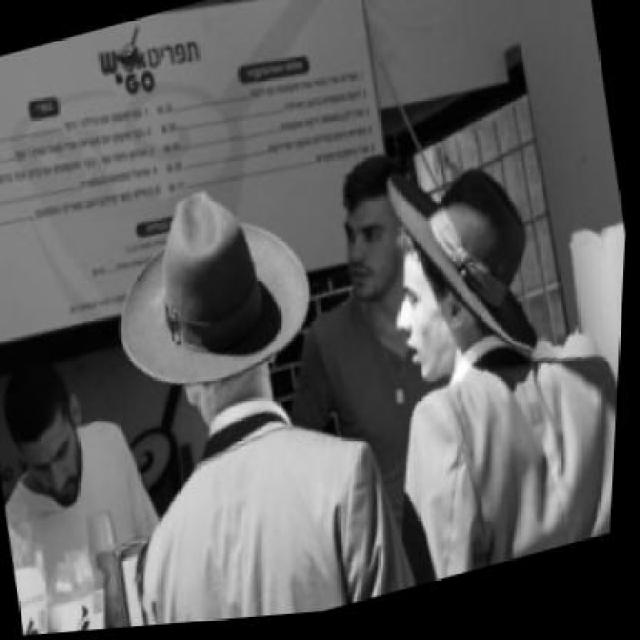hat: (98, 160, 333, 411), (372, 135, 559, 402)
